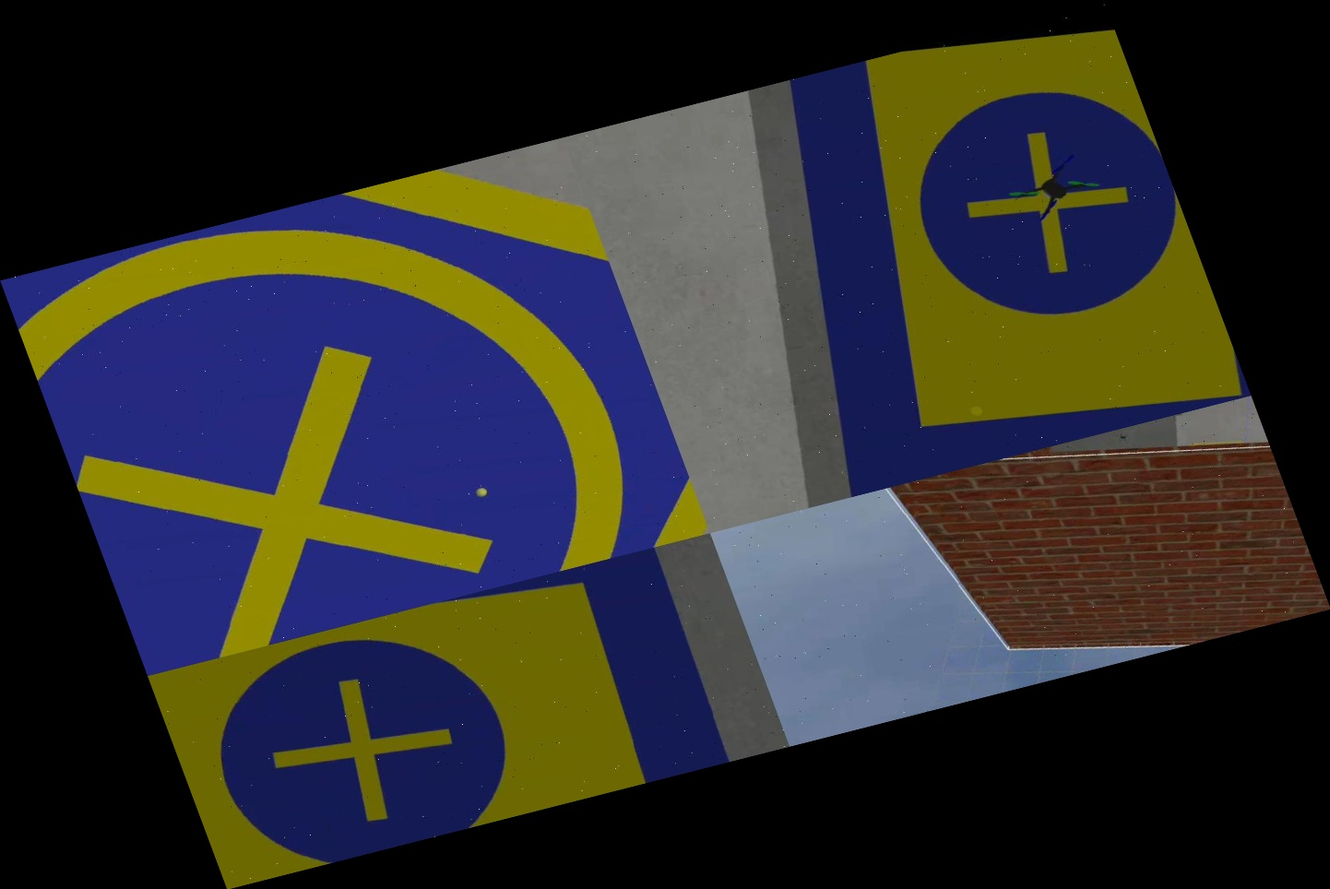large_base: (700, 0, 1251, 498), (148, 533, 790, 888)
small_base: (0, 137, 710, 676)
